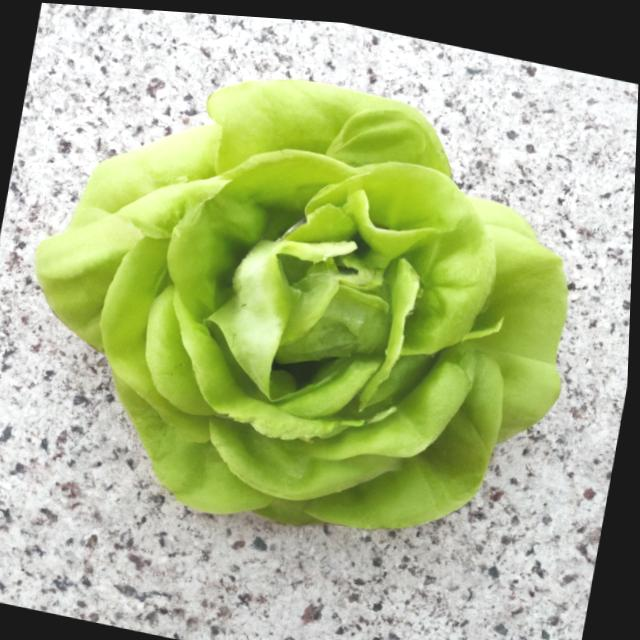-N: (0, 16, 614, 600)
